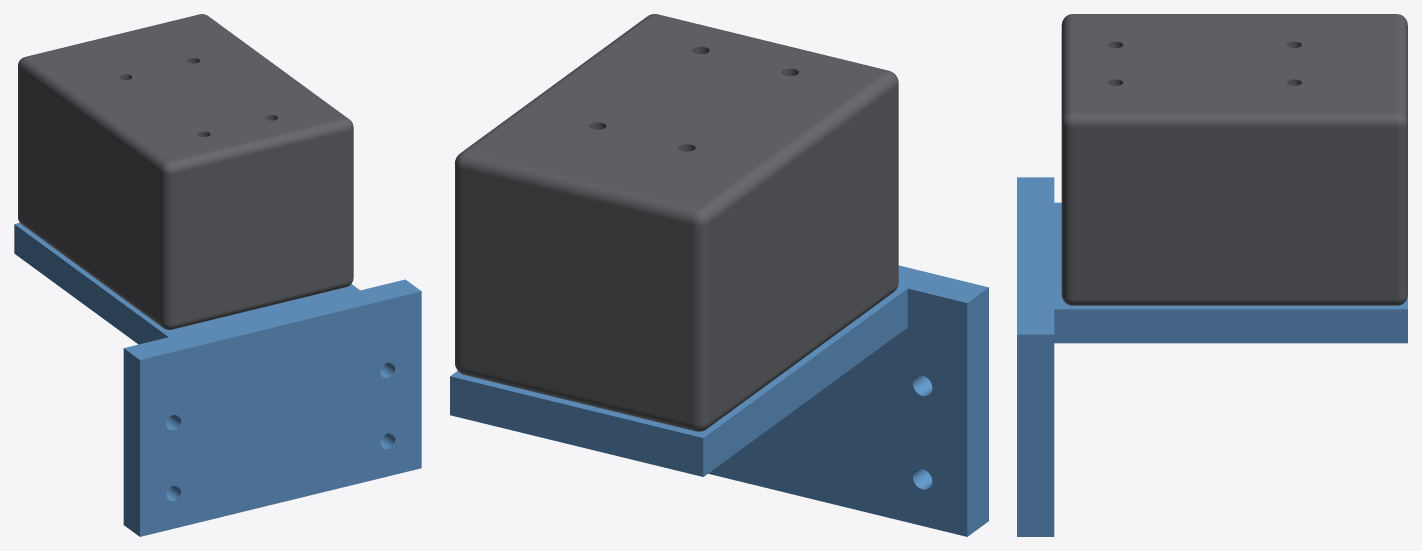
The picture shows the model from 3 angles, left to right: view 1: azimuth 30°, elevation 25°; view 2: azimuth 150°, elevation 25°; view 3: azimuth 270°, elevation 25°; orthographic projection. The views are drawn at different scales.
Parts seen in each view (by area): view 1: geometry_0, geometry_5; view 2: geometry_0, geometry_5; view 3: geometry_0, geometry_5.
Boxes of the visible parts, bbox=[...] form: geometry_0: bbox=[18, 14, 353, 329]; geometry_5: bbox=[14, 222, 421, 536]; geometry_0: bbox=[455, 14, 898, 431]; geometry_5: bbox=[450, 265, 988, 536]; geometry_0: bbox=[1061, 14, 1407, 305]; geometry_5: bbox=[1017, 177, 1407, 536].
Bounding box in the file's own units: 0.05 × 0.0585 × 0.0525.
